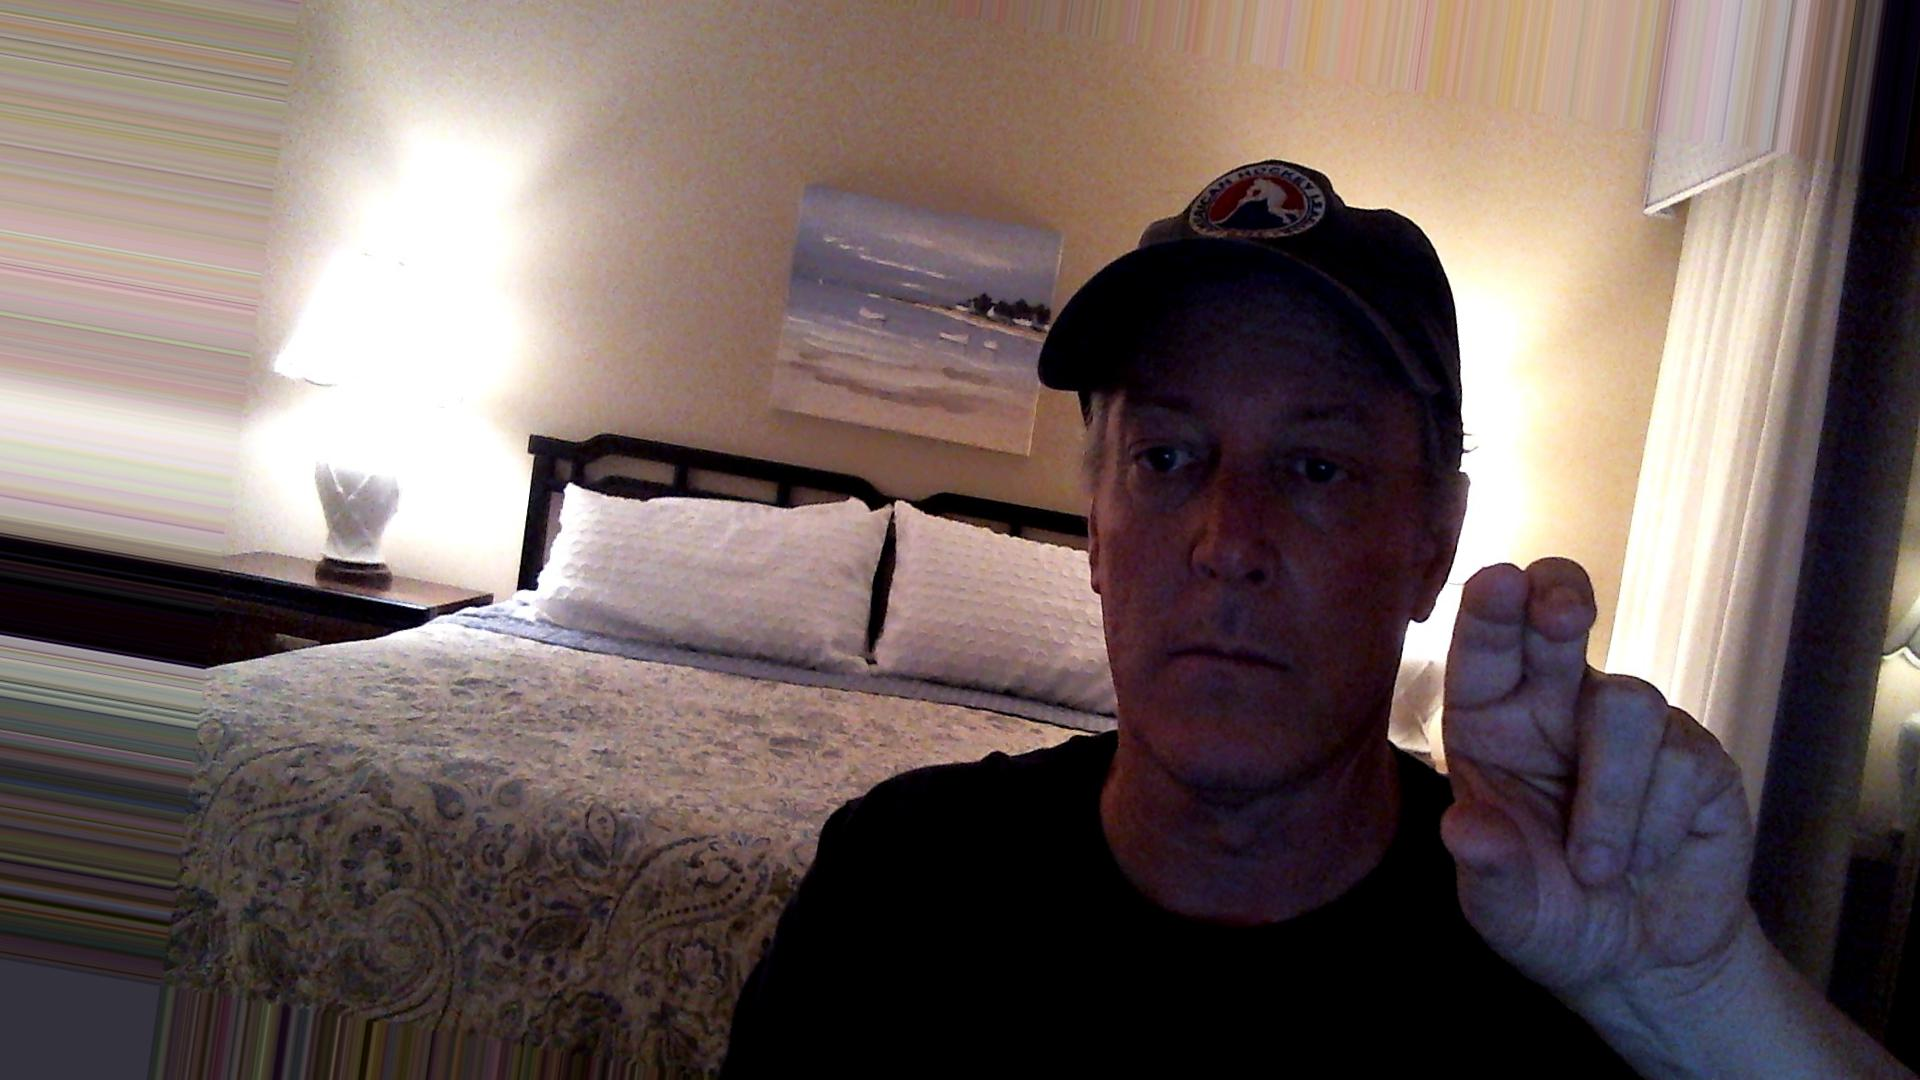No: (1361, 538, 1818, 1014)
